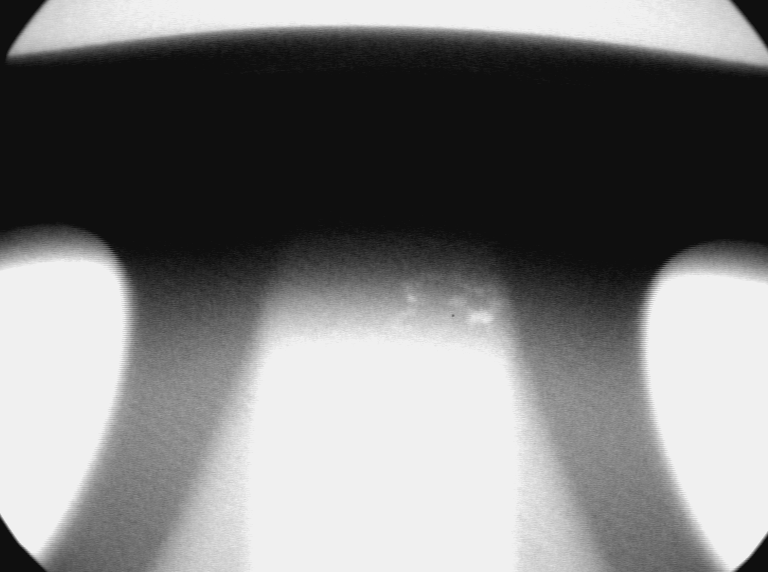defect: (386, 263, 515, 342)
